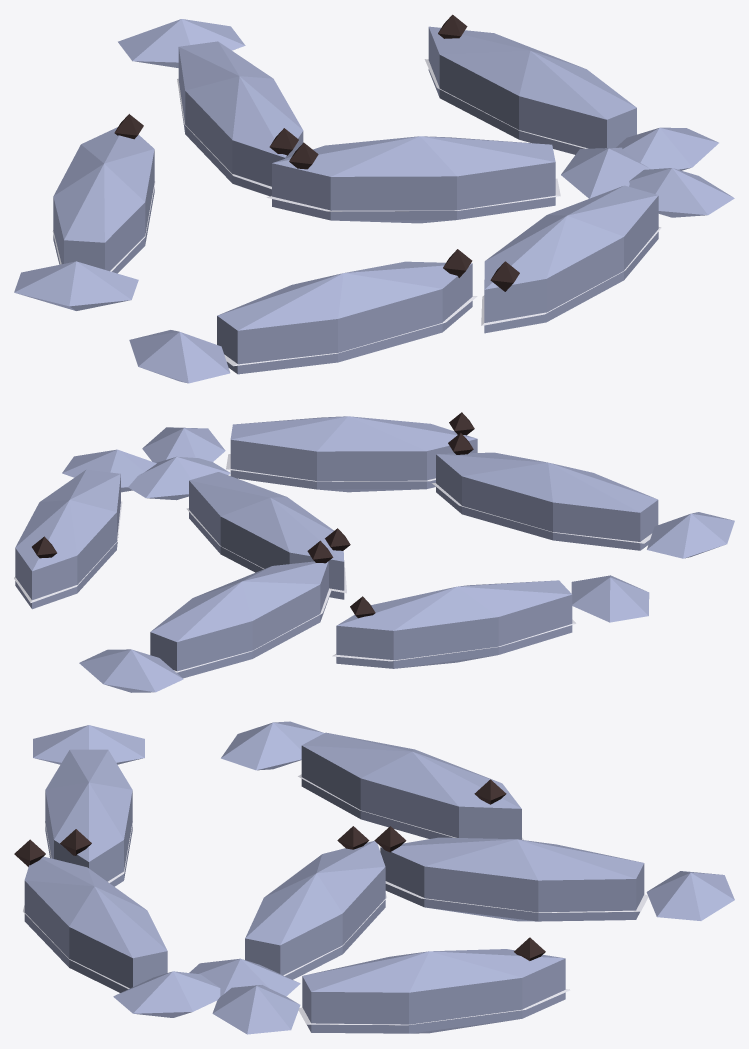
File: anchovy-raw.glb
3 views of the same model, one above another, from view 1: azimuth 30°, elevation 25°; view 2: azimuth 150°, elevation 25°; view 3: azimuth 270°, elevation 25° (orthographic). The views are drawn at different scales.
Parts seen in each view (by area): view 1: anchovy-raw; view 2: anchovy-raw; view 3: anchovy-raw.
Part boxes in pixels (x1,y1,x2,y2): anchovy-raw: [14, 14, 734, 383]; anchovy-raw: [14, 412, 734, 692]; anchovy-raw: [14, 721, 734, 1034].
Size of the model in its own units: 0.2293 by 0.029 by 0.2232.
Materials: 1 (1 with a texture image).
